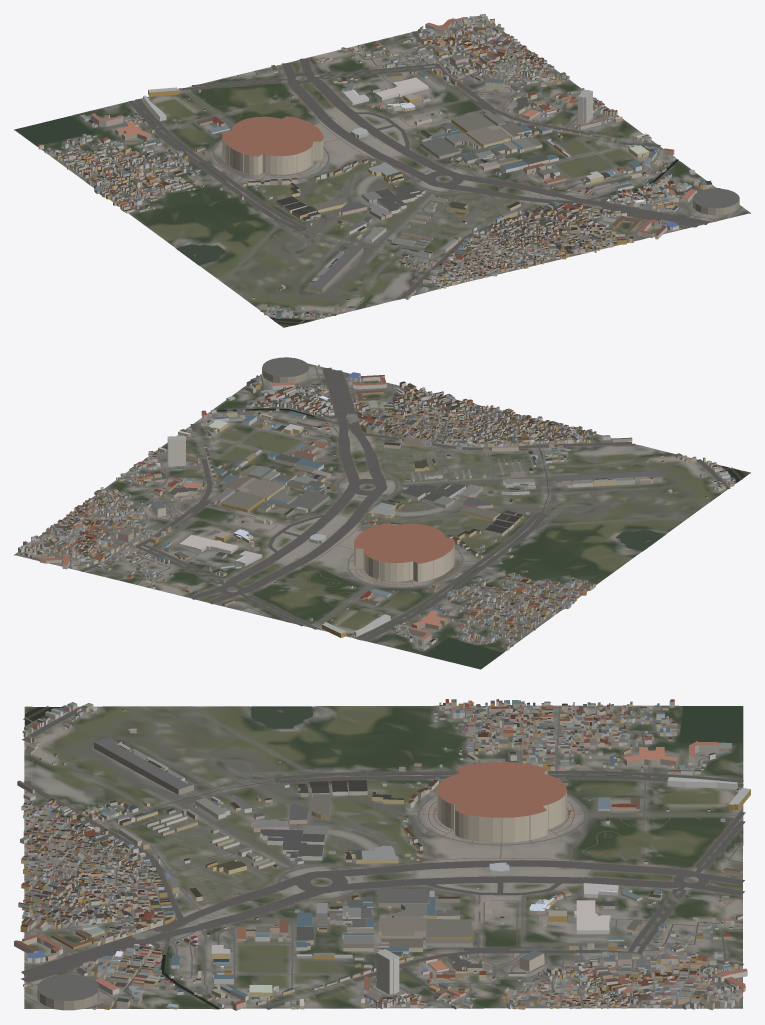
3 views of the same model, one above another, from view 1: azimuth 30°, elevation 25°; view 2: azimuth 150°, elevation 25°; view 3: azimuth 270°, elevation 25° (orthographic). The views are drawn at different scales.
Visible parts, largest first — view 1: ground, buildings, roads, water; view 2: ground, buildings, roads, water; view 3: ground, buildings, roads, water.
Boxes of the visible parts, x1,y1,x2,y2 form: ground: [14, 15, 750, 327]; buildings: [38, 14, 739, 319]; roads: [59, 16, 742, 323]; water: [15, 100, 678, 324]; ground: [14, 363, 750, 669]; buildings: [18, 357, 735, 650]; roads: [19, 365, 734, 644]; water: [211, 408, 745, 668]; ground: [24, 705, 743, 1009]; buildings: [14, 699, 750, 1010]; roads: [21, 705, 745, 1009]; water: [23, 706, 742, 1009].
Bounding box in the file's own units: 1420 × 82.87 × 1437.
